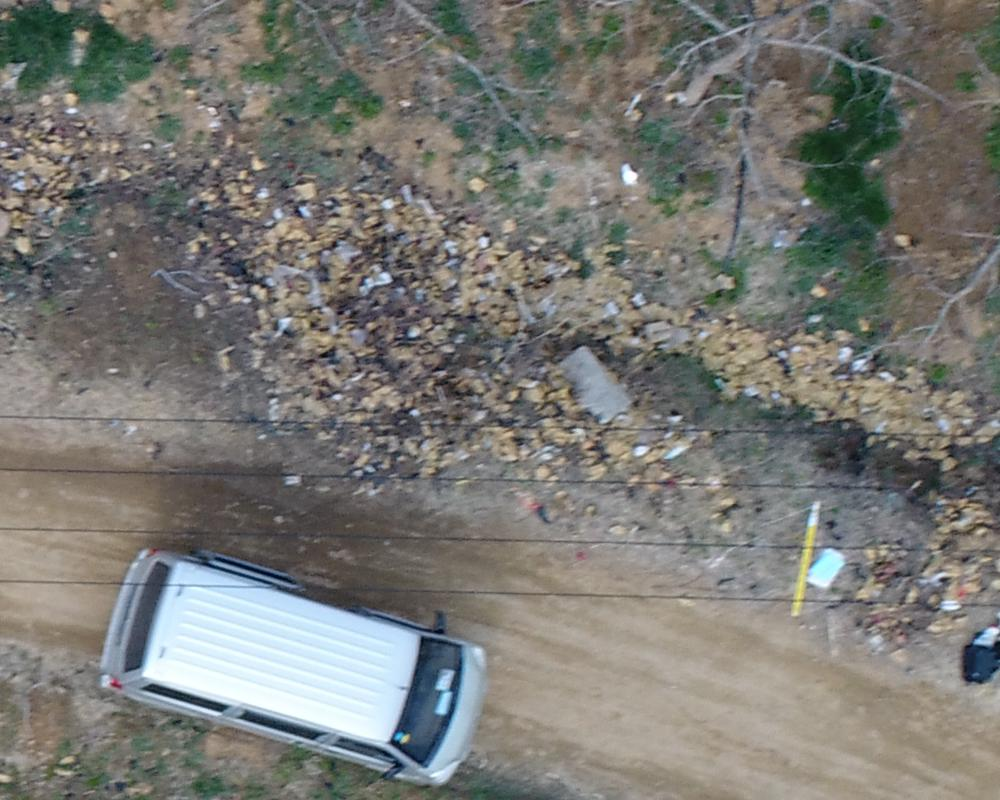apple: (511, 10, 963, 236)
